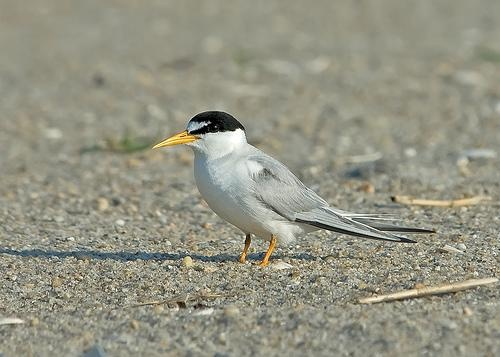bird: (149, 108, 433, 272)
